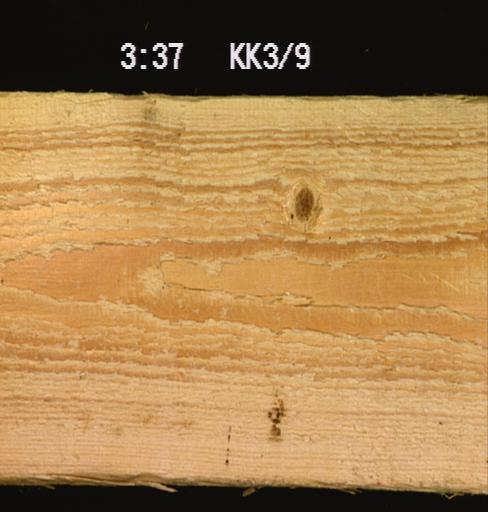sound_knot: (289, 185, 317, 221)
wave: (0, 470, 487, 495), (21, 90, 486, 103)
